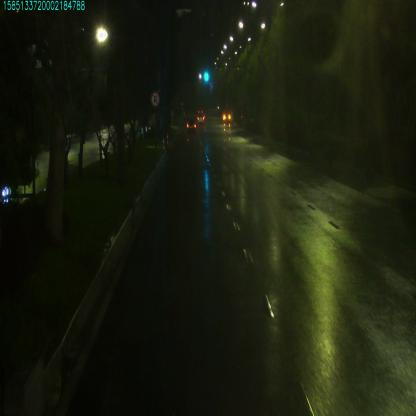traffic-light: (200, 68, 212, 88)
